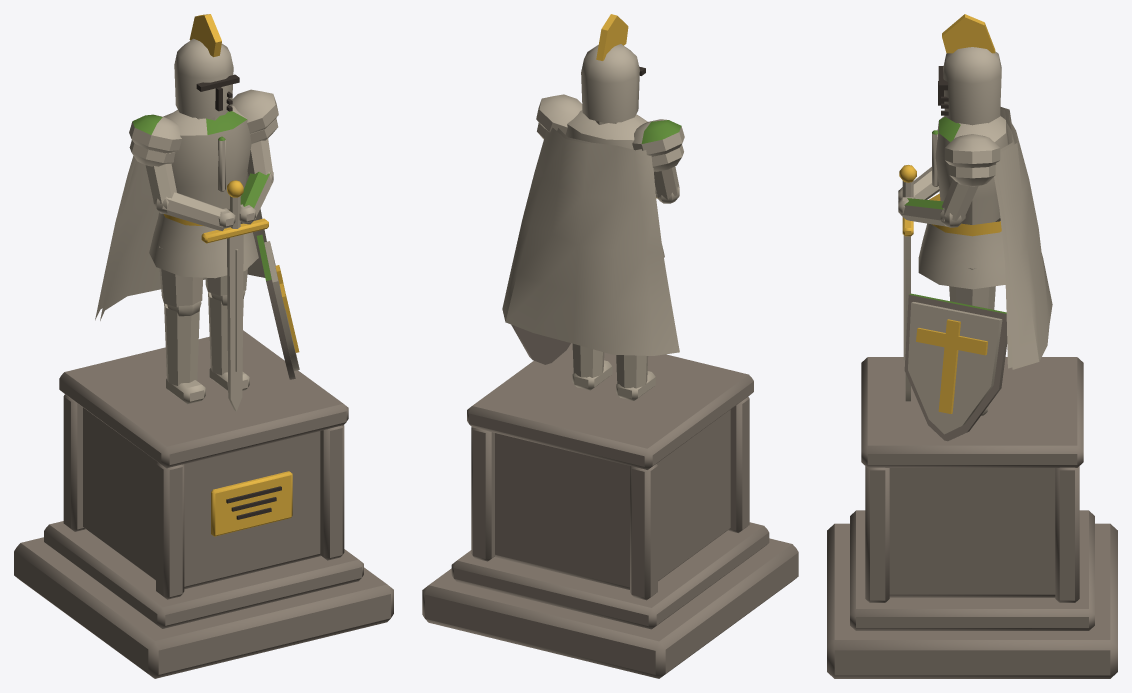
Rendered from knight_statue.glb.
3 views of the same model, side by side, from view 1: azimuth 30°, elevation 25°; view 2: azimuth 150°, elevation 25°; view 3: azimuth 270°, elevation 25° (orthographic). The views are drawn at different scales.
Visible parts, largest first — view 1: knight_statue; view 2: knight_statue; view 3: knight_statue.
Part boxes in pixels (x1,y1,x2,y2): knight_statue: (14,14,393,678); knight_statue: (422,14,798,678); knight_statue: (827,14,1117,678).
Size of the model in its own units: 1.9 by 4.36 by 1.9.
